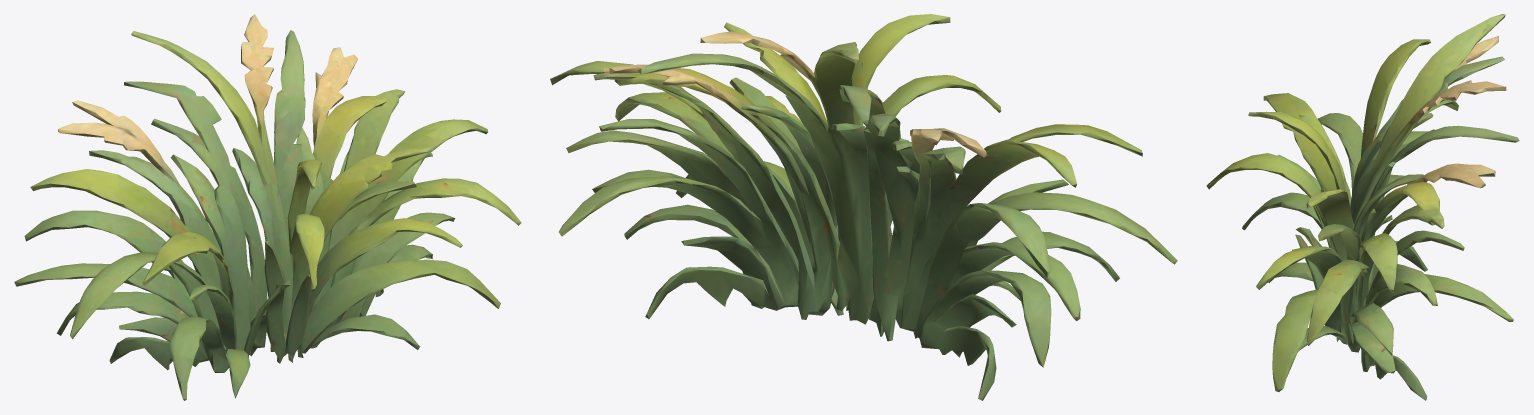
File: hierba_alta_20261019_150714_4k.glb
The picture shows the model from 3 angles, left to right: view 1: azimuth 30°, elevation 25°; view 2: azimuth 150°, elevation 25°; view 3: azimuth 270°, elevation 25°; orthographic projection. The views are drawn at different scales.
Visible parts, largest first — view 1: hierba_alta_malla; view 2: hierba_alta_malla; view 3: hierba_alta_malla.
Part boxes in pixels (left/top/right/bottom): hierba_alta_malla: left=14, top=14, right=521, bottom=400; hierba_alta_malla: left=550, top=14, right=1177, bottom=400; hierba_alta_malla: left=1206, top=14, right=1519, bottom=400.
Size of the model in its own units: 0.4904 by 0.2942 by 0.2899.
Materials: 1 (1 with a texture image).
